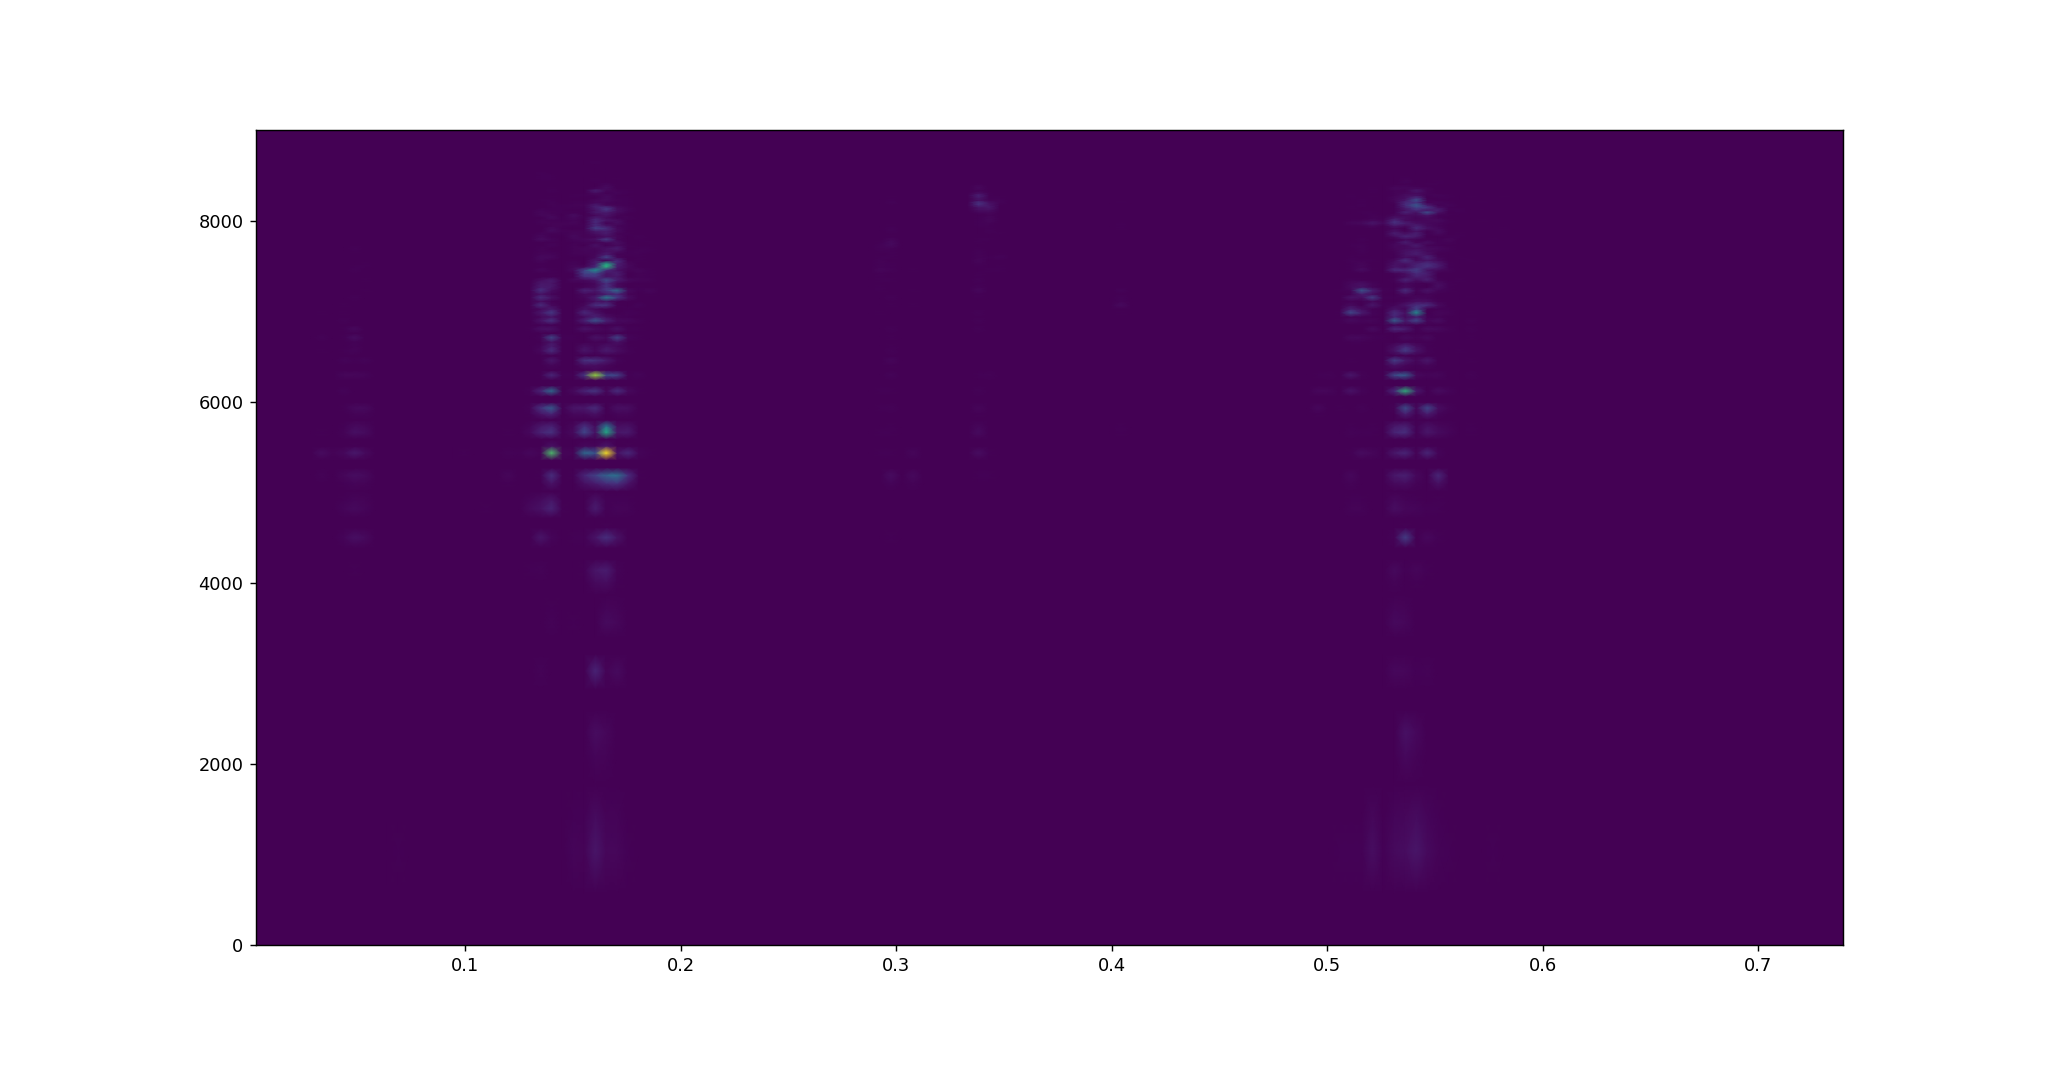PistolGL: (530, 186, 1453, 546)
